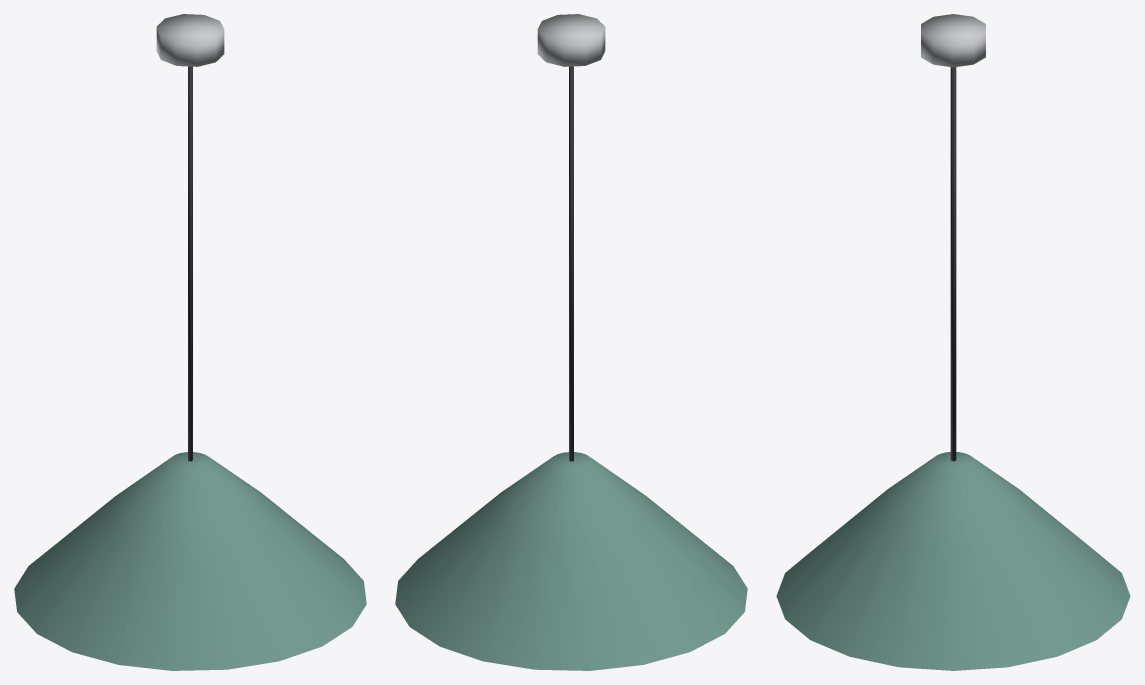
Rendered from pendant_lamp.glb.
The picture shows the model from 3 angles, left to right: view 1: azimuth 30°, elevation 25°; view 2: azimuth 150°, elevation 25°; view 3: azimuth 270°, elevation 25°; orthographic projection.
Visible parts, largest first — view 1: pendant_lamp; view 2: pendant_lamp; view 3: pendant_lamp.
Boxes of the visible parts, x1,y1,x2,y2 form: pendant_lamp: (14,14,366,670); pendant_lamp: (395,14,747,670); pendant_lamp: (776,14,1130,670).
Size of the model in its own units: 0.52 by 0.92 by 0.52.
